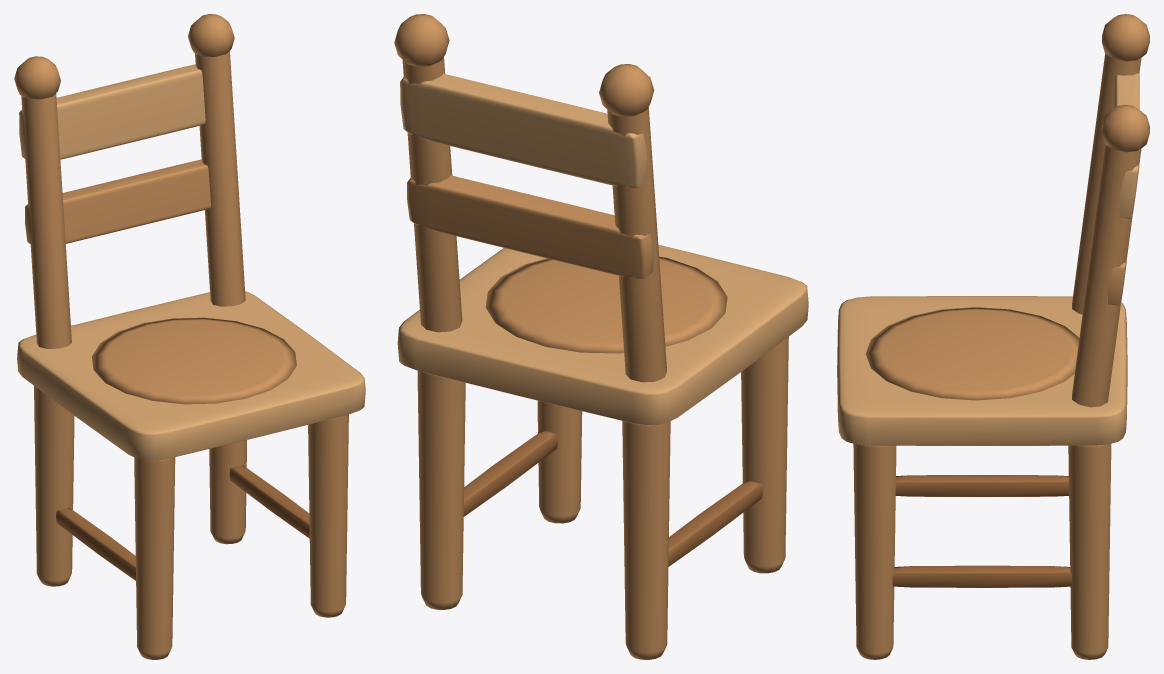
File: chair.glb
3 renders of one model, left to right at view 1: azimuth 30°, elevation 25°; view 2: azimuth 150°, elevation 25°; view 3: azimuth 270°, elevation 25°, orthographic. The views are drawn at different scales.
Parts seen in each view (by area): view 1: chair; view 2: chair; view 3: chair.
Boxes of the visible parts, x1,y1,x2,y2 form: chair: [14, 14, 365, 659]; chair: [394, 14, 808, 659]; chair: [837, 14, 1149, 659].
Bounding box in the file's own units: 0.46 × 0.96 × 0.495.
1 material, 1 textured.
